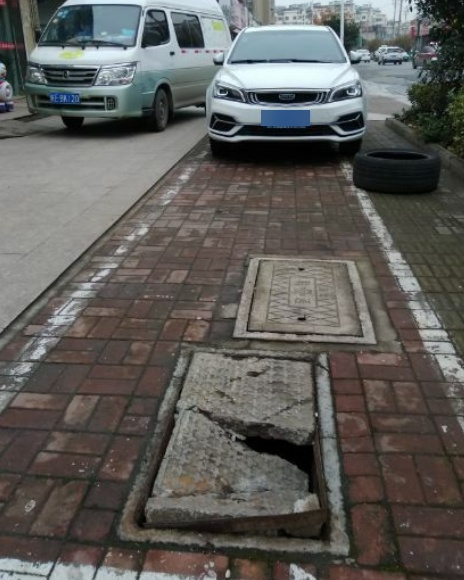well: (116, 346, 345, 551), (231, 255, 378, 343)
